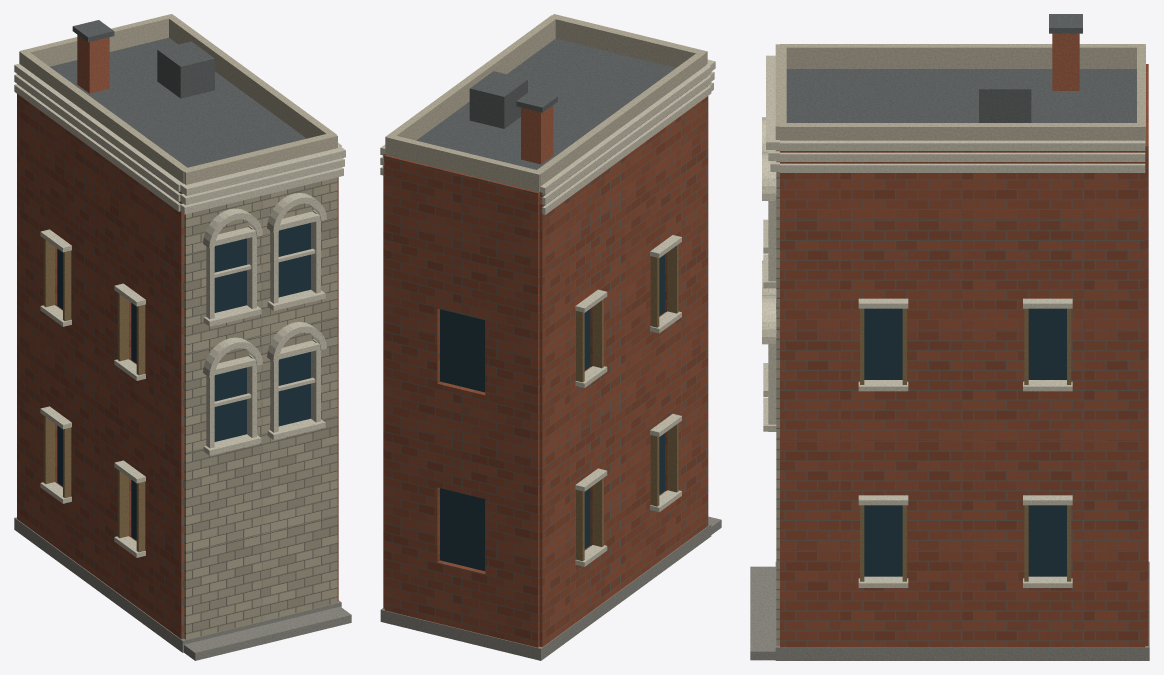
Rendered from WRHS4_lod2.glb.
3 views of the same model, side by side, from view 1: azimuth 30°, elevation 25°; view 2: azimuth 150°, elevation 25°; view 3: azimuth 270°, elevation 25° (orthographic). The views are drawn at different scales.
Visible parts, largest first — view 1: WRHS4_LOD2; view 2: WRHS4_LOD2; view 3: WRHS4_LOD2.
Boxes of the visible parts, x1=… form: WRHS4_LOD2: x1=14, y1=14, x2=351, y2=660; WRHS4_LOD2: x1=380, y1=14, x2=721, y2=660; WRHS4_LOD2: x1=750, y1=14, x2=1149, y2=660.
Bounding box in the file's own units: 3.71 × 10.45 × 6.57.
Materials: 10 (8 with a texture image).
